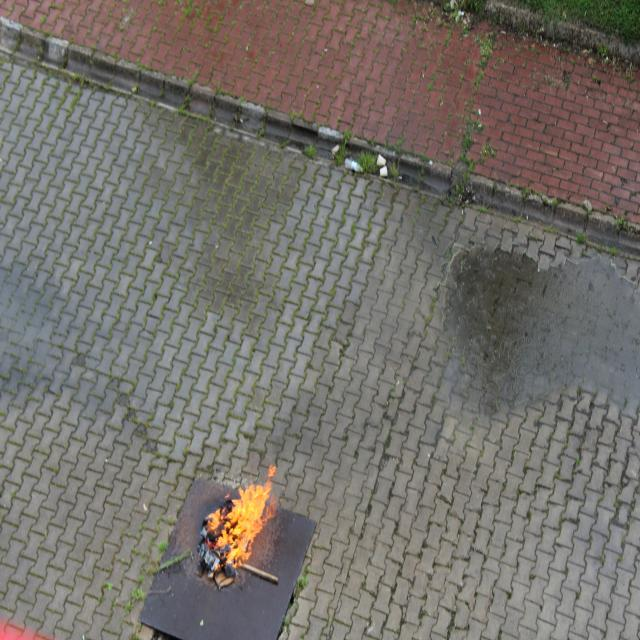fire: (198, 465, 281, 564)
